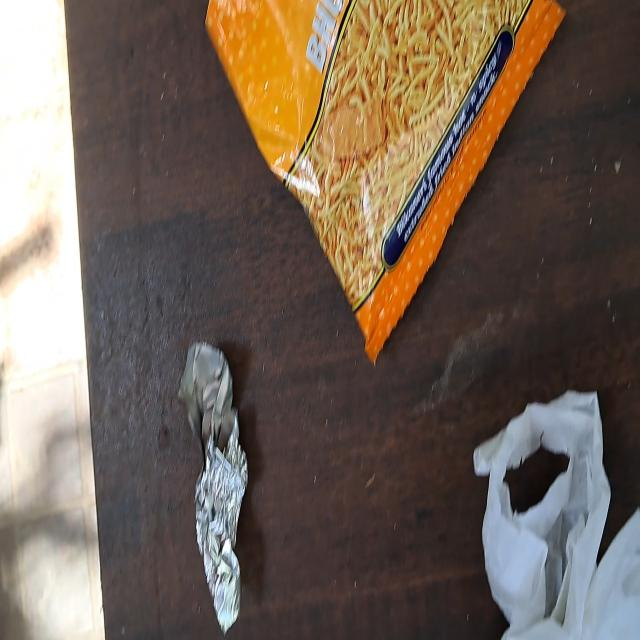Anorganik: (202, 0, 566, 336), (177, 340, 254, 633)
Organik: (475, 387, 640, 640)
